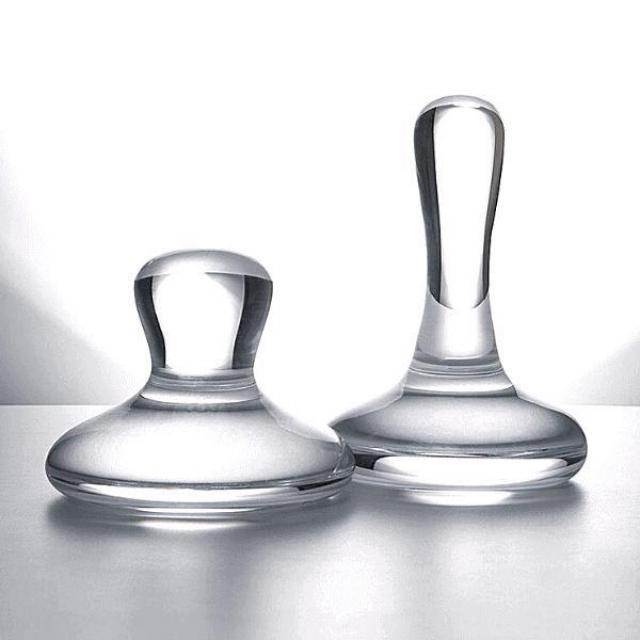glass: (41, 242, 360, 526)
